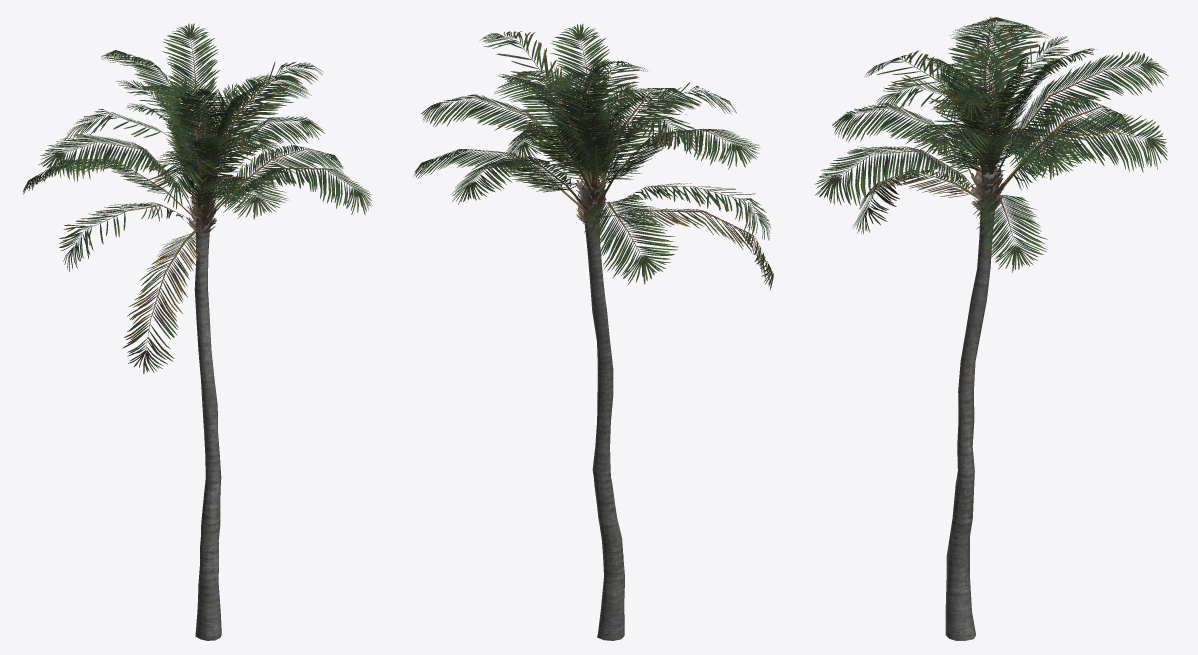
File: MB_Palm_Miami_03.fbx
The picture shows the model from 3 angles, left to right: view 1: azimuth 30°, elevation 25°; view 2: azimuth 150°, elevation 25°; view 3: azimuth 270°, elevation 25°; orthographic projection. The views are drawn at different scales.
Parts seen in each view (by area): view 1: MB_Palm_Miami_03_LOD0; view 2: MB_Palm_Miami_03_LOD0; view 3: MB_Palm_Miami_03_LOD0.
Part boxes in pixels (left/top/right/bottom): MB_Palm_Miami_03_LOD0: left=23, top=23, right=372, bottom=640; MB_Palm_Miami_03_LOD0: left=413, top=24, right=773, bottom=640; MB_Palm_Miami_03_LOD0: left=814, top=16, right=1168, bottom=640.
Size of what is drawn, in the model's own units: 532 by 863 by 489.
